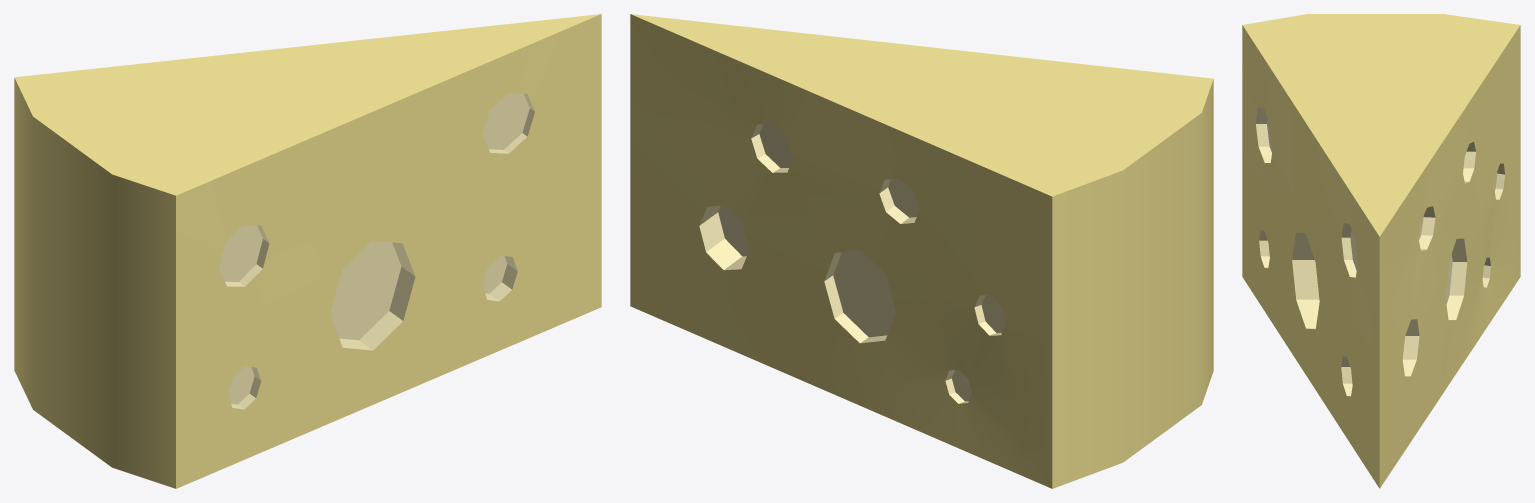
Rendered from Queso.fbx.
3 views of the same model, side by side, from view 1: azimuth 30°, elevation 25°; view 2: azimuth 150°, elevation 25°; view 3: azimuth 270°, elevation 25° (orthographic). The views are drawn at different scales.
Visible parts, largest first — view 1: pCube1; view 2: pCube1; view 3: pCube1.
Part boxes in pixels (left/top/right/bottom): pCube1: left=14, top=14, right=601, bottom=488; pCube1: left=630, top=14, right=1213, bottom=488; pCube1: left=1242, top=14, right=1520, bottom=488.
Bounding box in the file's own units: 1.9 × 1 × 1.
